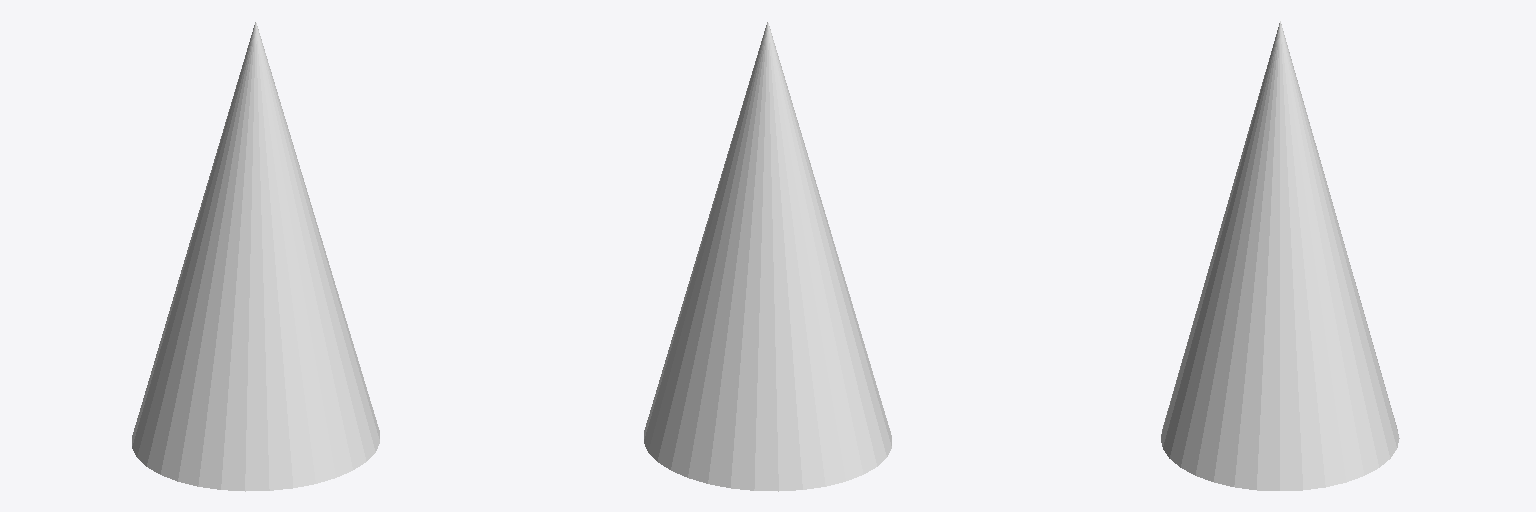
The robot description file, URDF, robot "cone.urdf":
<?xml version="1.0" ?>
<robot name="cone.urdf">
  <link name="baseLink">
    <contact>
    	<friction_anchor/>
    	   <lateral_friction value="0.5"/>
        <rolling_friction value="0.005"/>
        <spinning_friction value="0.005"/>
    </contact>
    <inertial>
      <origin rpy="0 0 0" xyz="0 0 0"/>
       <mass value="1"/>
       <inertia ixx="1" ixy="0" ixz="0" iyy="1.3" iyz="0" izz="0.5"/>
    </inertial>
    <visual>
      <origin rpy="1.57 0 0" xyz="-0.5 -0.25 -0.1"/>
      <geometry>
				<mesh filename="cone.obj" scale=".08 .08 .08"/>
      </geometry>
       <material name="white">
        <color rgba="1 1 1 1"/>
      </material>
    </visual>
    <collision>
      <origin rpy="0 0 0" xyz="0 0 0"/>
      <geometry>
	 	<box size=".05 .05 .05"/>
      </geometry>
    </collision>
  </link>
</robot>

--- What the picture shows (computed from the rendered views, not written in the file) ---
The picture shows the robot from 3 angles, left to right: view 1: azimuth 30°, elevation 25°; view 2: azimuth 150°, elevation 25°; view 3: azimuth 270°, elevation 25°; orthographic projection.
Robot: cone.urdf — 1 links, 0 joints (none); root link baseLink; default pose: every joint at zero.
Visible links, largest first — view 1: baseLink; view 2: baseLink; view 3: baseLink.
Boxes of the visible links, x1=… form: baseLink: x1=132, y1=22, x2=379, y2=491; baseLink: x1=644, y1=22, x2=891, y2=491; baseLink: x1=1161, y1=21, x2=1399, y2=490.
Bounding box of the posed robot: 0.1273 × 0.1209 × 0.2331 m (x, y, z).
Meshes: 1 distinct files referenced, 1 mesh visuals loaded (1 OBJ).
